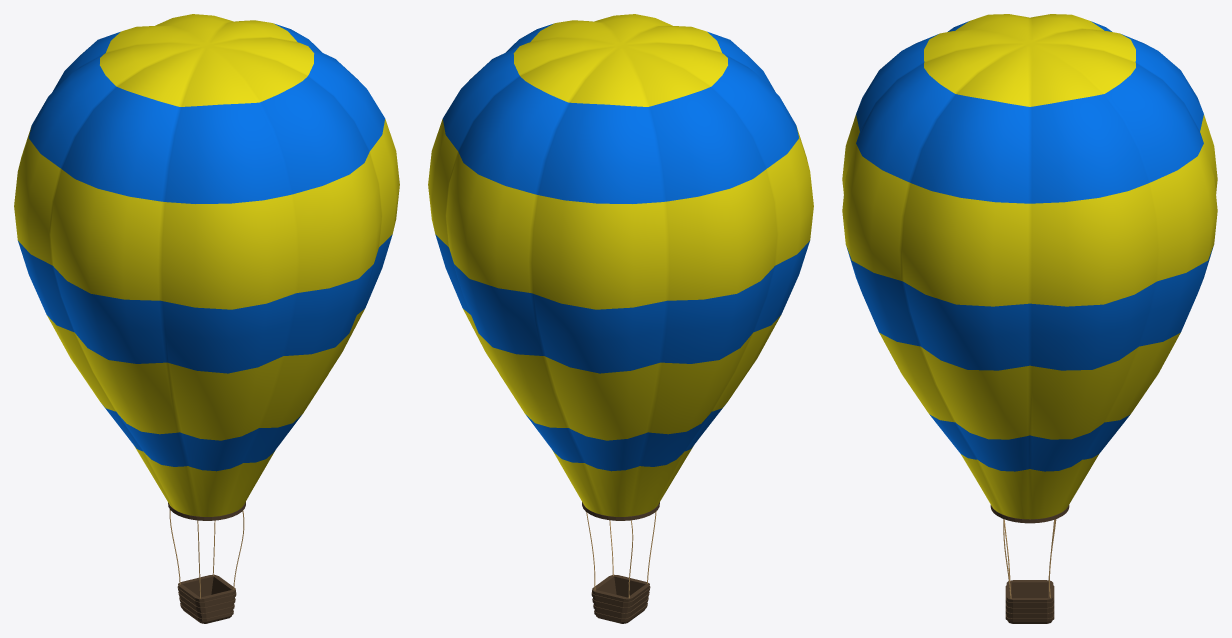
The model's file is mongolfiere.fbx.
The picture shows the model from 3 angles, left to right: view 1: azimuth 30°, elevation 25°; view 2: azimuth 150°, elevation 25°; view 3: azimuth 270°, elevation 25°; orthographic projection.
Visible parts, largest first — view 1: mongolfiere; view 2: mongolfiere; view 3: mongolfiere.
Part boxes in pixels (x1,y1,x2,y2): mongolfiere: (14, 14, 399, 623); mongolfiere: (428, 14, 813, 623); mongolfiere: (842, 14, 1217, 623).
Size of the model in its own units: 208 by 351 by 208.
